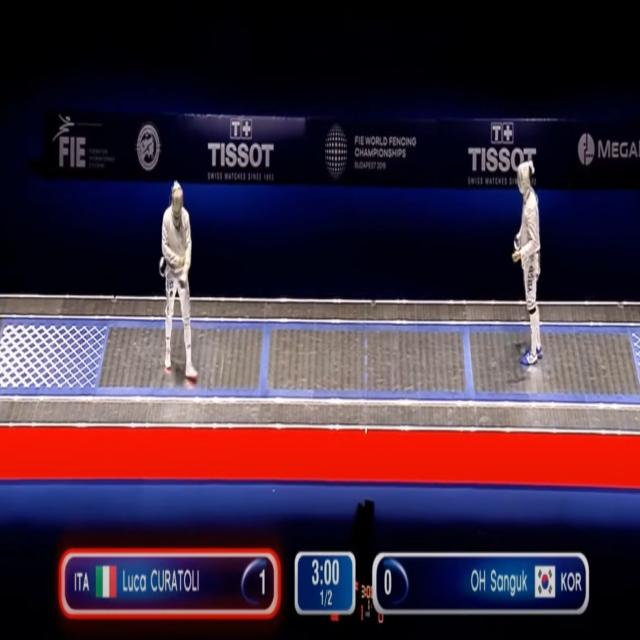fencer: (151, 185, 202, 385), (513, 147, 551, 376)
overlayLeft: (69, 564, 226, 609)
overlayRight: (416, 560, 585, 605)
scoreLeft: (232, 561, 272, 606)
scoreRight: (379, 565, 411, 606)
